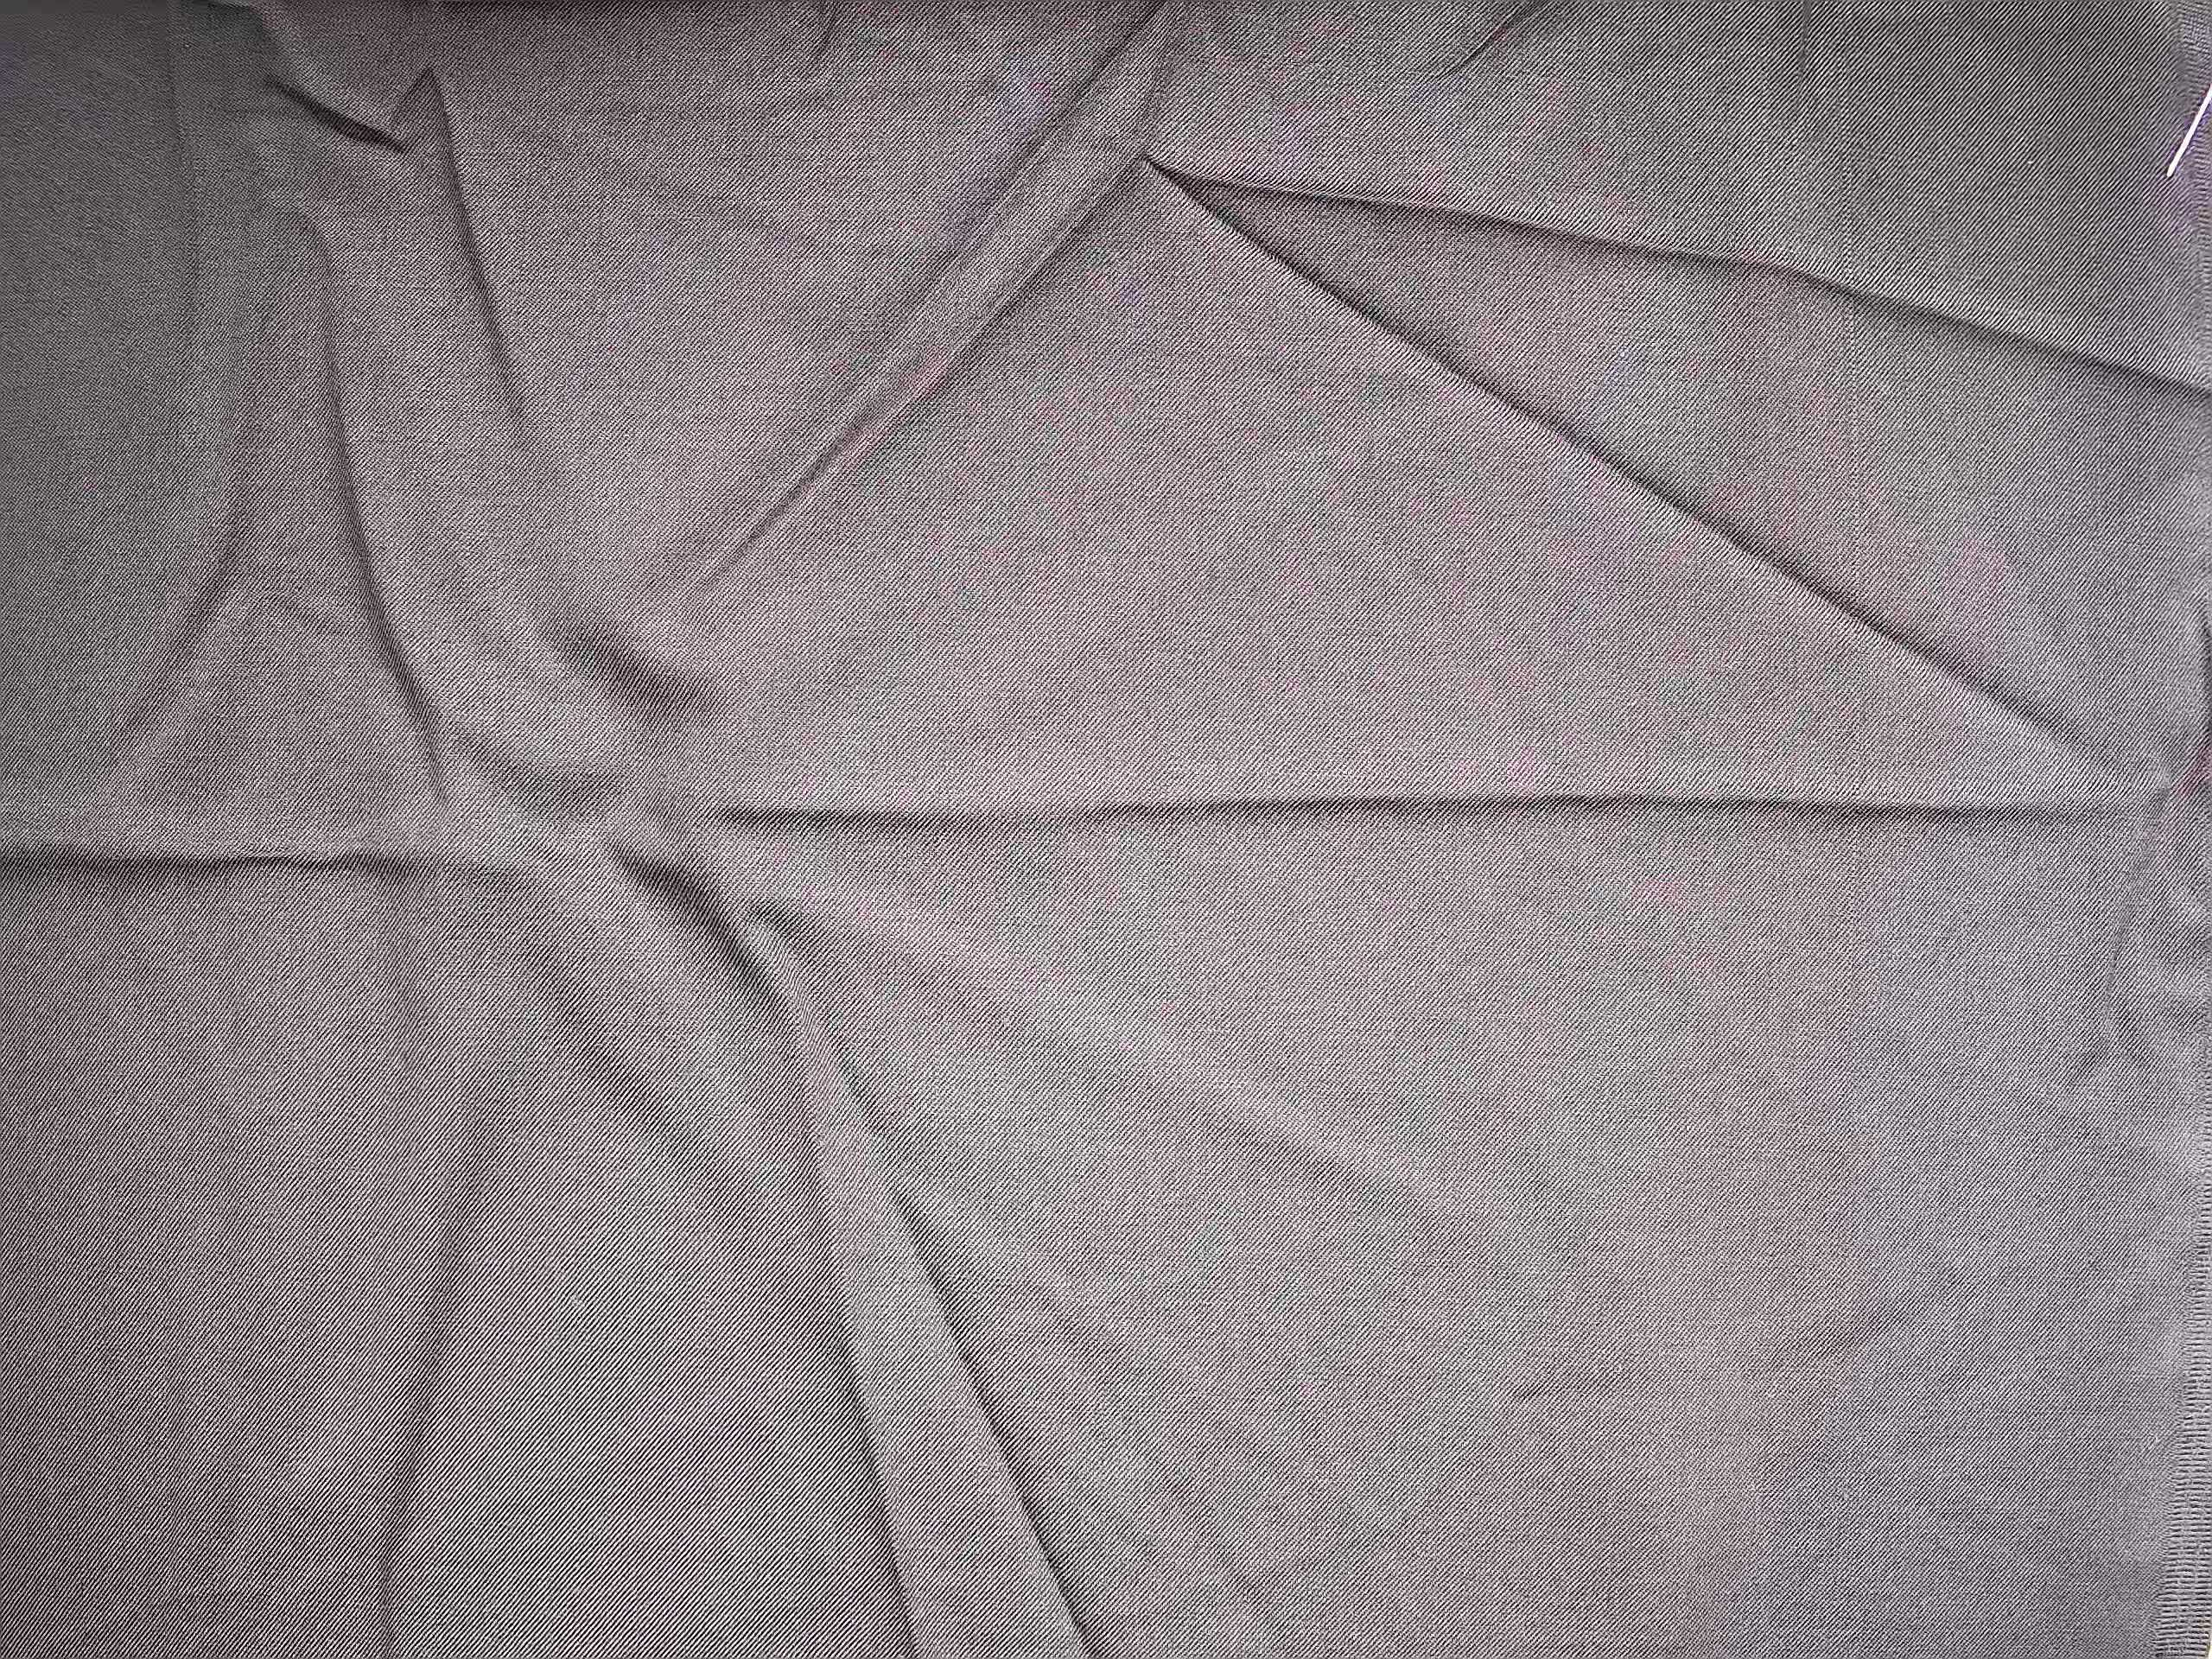others: (1810, 23, 1885, 1169)
